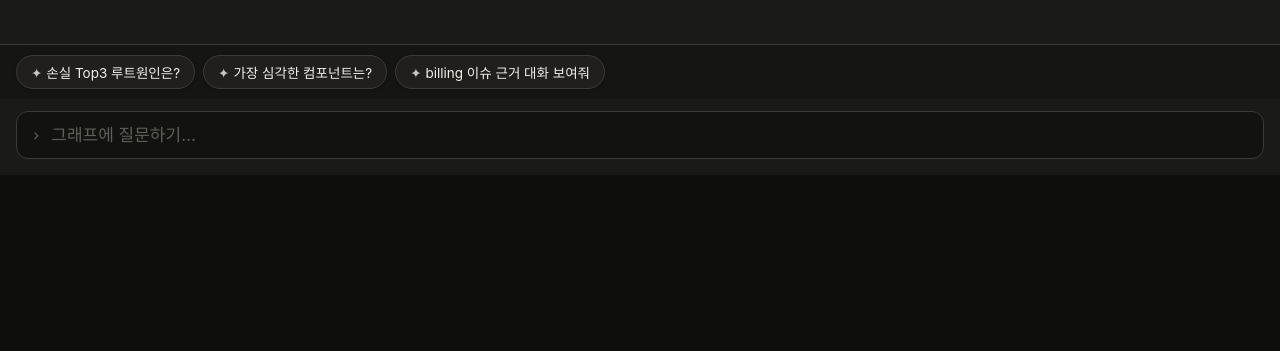
Test case: ChatStream › should auto-submit the question when a related chip is clicked
Click the button "✦가장 심각한 컴포넌트는?" at [295, 72], box [203, 55, 387, 89]
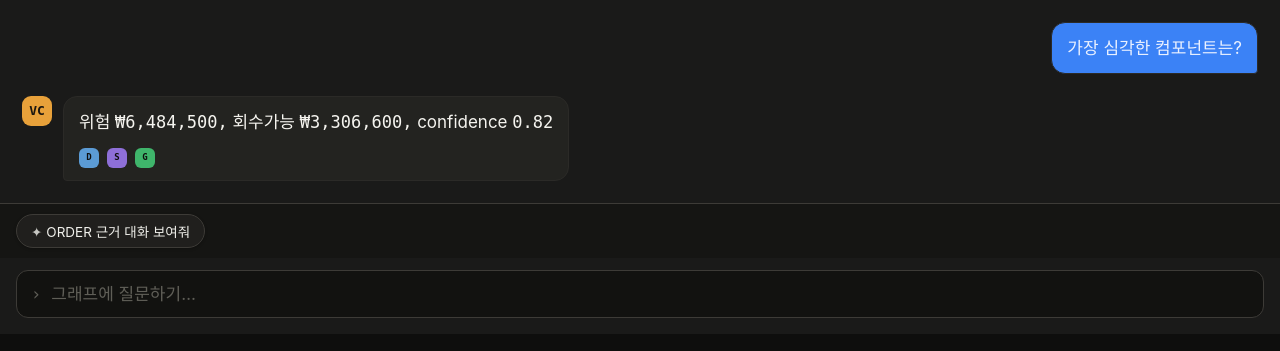
Expected: the text "가장 심각한 컴포넌트는?" is shown, [1051, 22, 1258, 74]
Result: the button "✦ORDER 근거 대화 보여줘" is shown at [16, 214, 205, 248]
